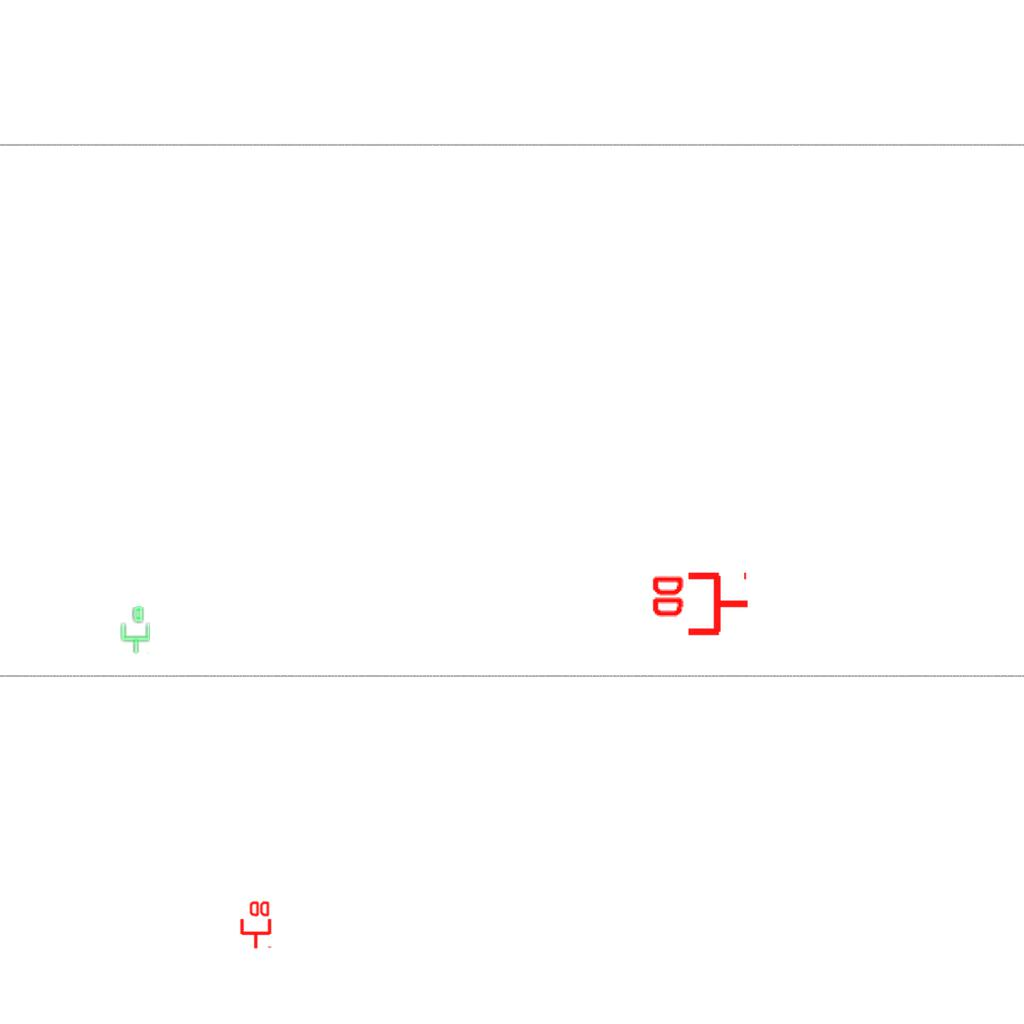Datenanschluss_einfach: (118, 605, 152, 655)
Datenanschluss_zweifach: (648, 571, 751, 640), (238, 899, 272, 950)
